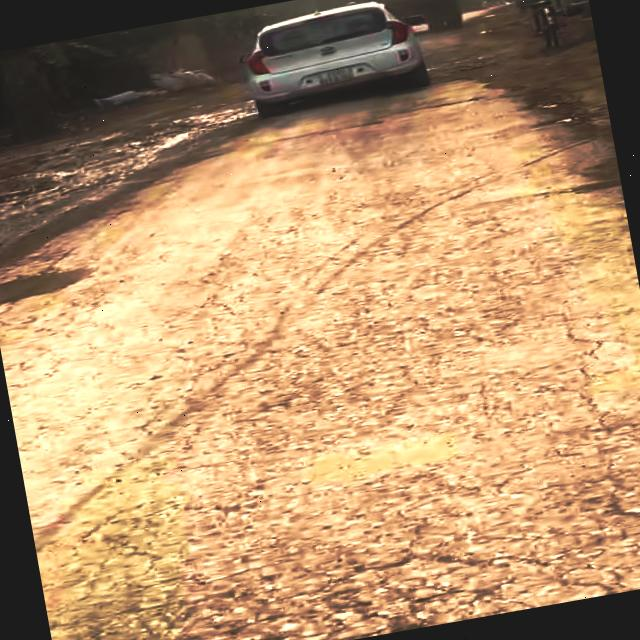pothole: (0, 257, 95, 308)
